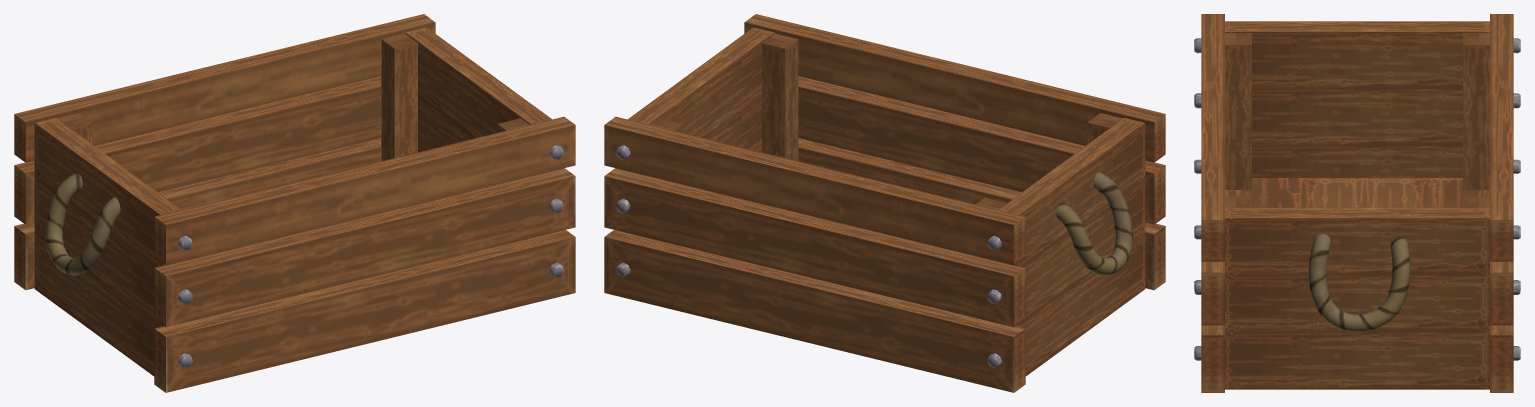
The model's file is farm_crate_empty.glb.
The picture shows the model from 3 angles, left to right: view 1: azimuth 30°, elevation 25°; view 2: azimuth 150°, elevation 25°; view 3: azimuth 270°, elevation 25°; orthographic projection. The views are drawn at different scales.
Visible parts, largest first — view 1: FarmCrate_Empty; view 2: FarmCrate_Empty; view 3: FarmCrate_Empty.
Part boxes in pixels (x1,y1,x2,y2): FarmCrate_Empty: (14,14,575,392); FarmCrate_Empty: (604,14,1165,392); FarmCrate_Empty: (1194,14,1520,392).
Bounding box in the file's own units: 0.7138 × 0.2438 × 0.4142.
2 materials, 2 textured.
